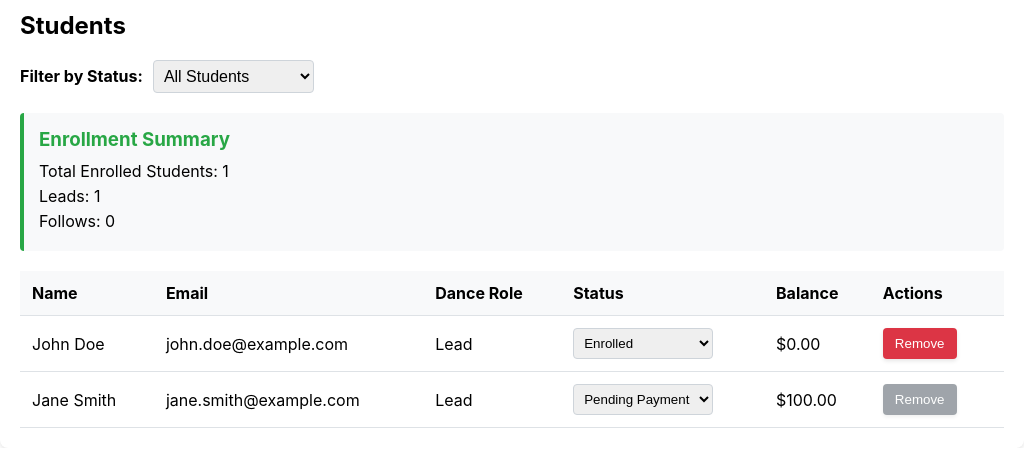
Test: StudentList › removes student with zero balance
# Click remove button for first student (zero balance)
Step 1. Click the button with test id "remove-button-student1" → (920, 343), box [883, 328, 956, 359]
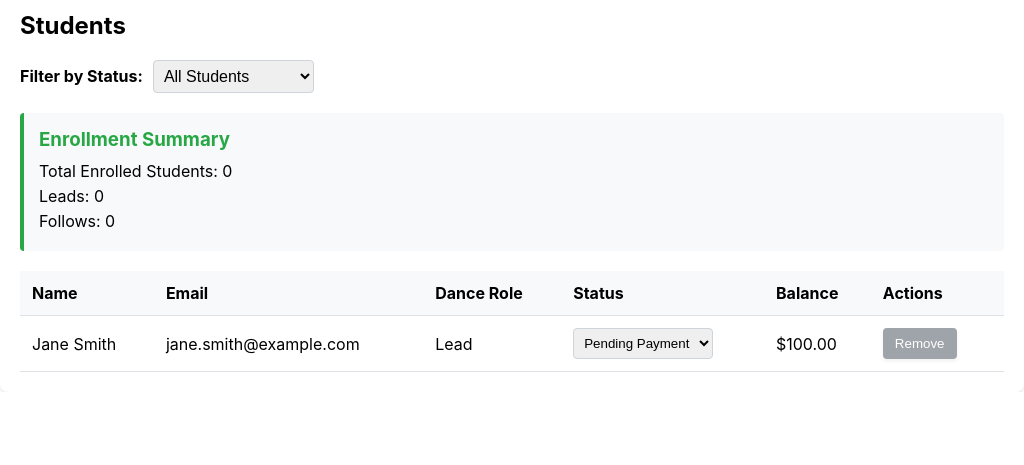
Now the row with test id "student-row-student1" is gone
